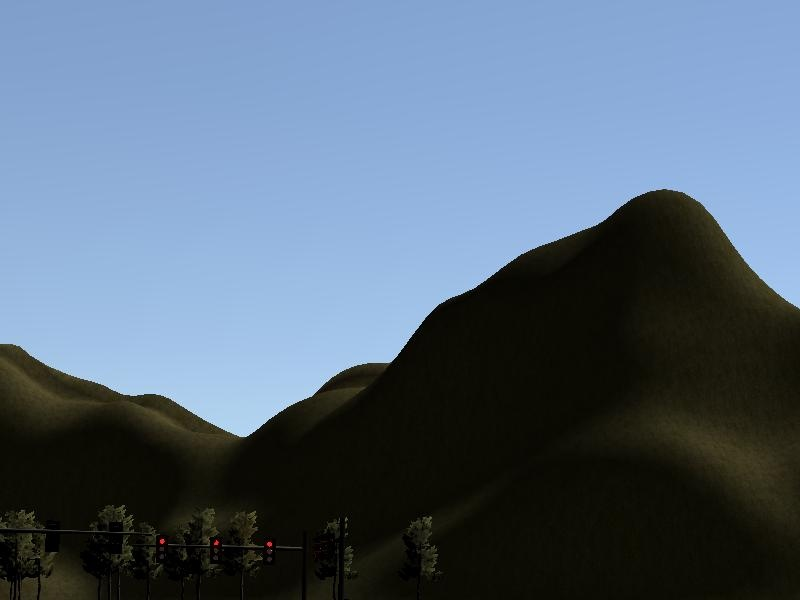RED: (208, 533, 223, 566), (261, 537, 277, 567), (155, 531, 168, 565)
